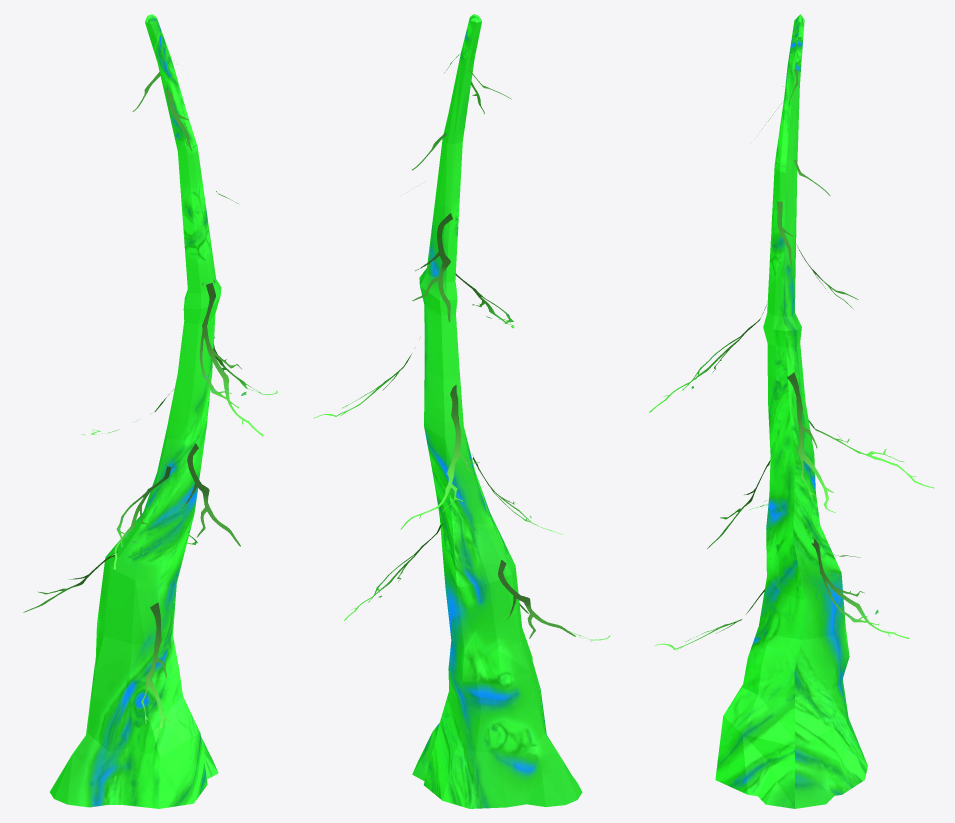
The model's file is DTree.fbx.
3 views of the same model, side by side, from view 1: azimuth 30°, elevation 25°; view 2: azimuth 150°, elevation 25°; view 3: azimuth 270°, elevation 25° (orthographic).
Visible parts, largest first — view 1: Dn_OW_PineTree_L.mo; view 2: Dn_OW_PineTree_L.mo; view 3: Dn_OW_PineTree_L.mo.
Part boxes in pixels (x1,y1,x2,y2): Dn_OW_PineTree_L.mo: (23, 14, 277, 808); Dn_OW_PineTree_L.mo: (313, 14, 610, 808); Dn_OW_PineTree_L.mo: (649, 14, 934, 808).
Size of the model in its own units: 540 by 1452 by 513.
